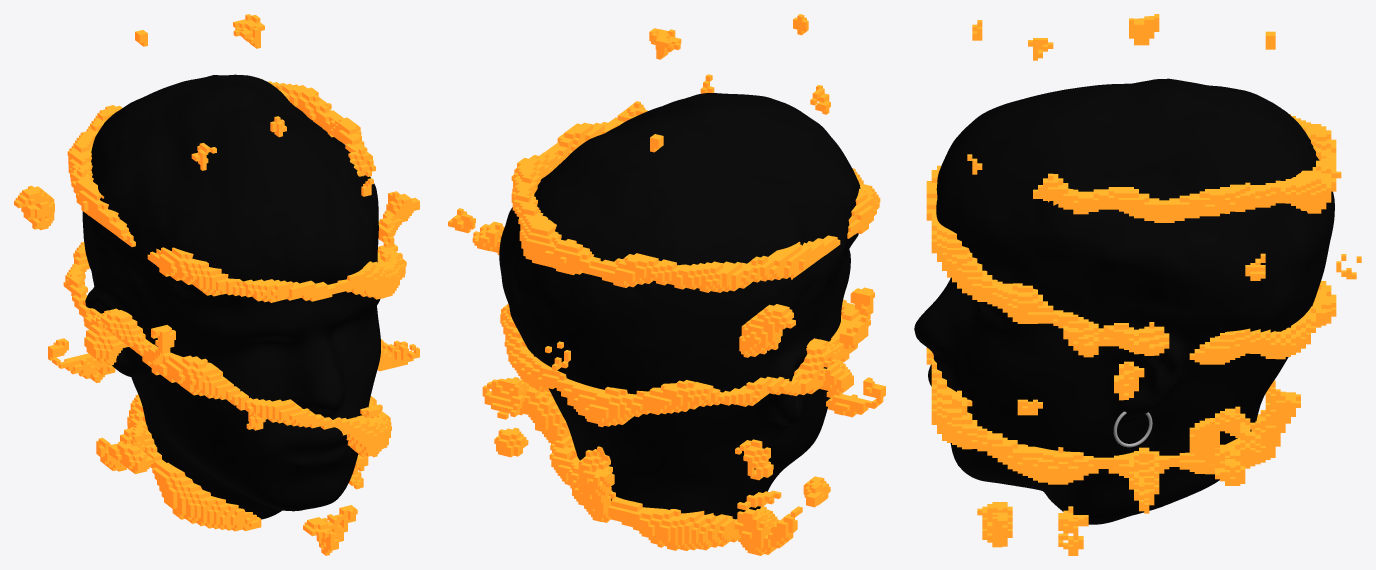
The model's file is MOISUBSTANCEORANGE.glb.
The picture shows the model from 3 angles, left to right: view 1: azimuth 30°, elevation 25°; view 2: azimuth 150°, elevation 25°; view 3: azimuth 270°, elevation 25°; orthographic projection. The views are drawn at different scales.
Visible parts, largest first — view 1: moi tout simplement.002, Cube; view 2: moi tout simplement.002, Cube; view 3: moi tout simplement.002, Cube.
Boxes of the visible parts, x1,y1,x2,y2 form: moi tout simplement.002: (82,74,380,519); Cube: (14,14,419,555); moi tout simplement.002: (499,93,860,519); Cube: (448,14,885,555); moi tout simplement.002: (914,78,1334,524); Cube: (926,14,1361,555).
Size of the model in its own units: 2.02 by 2.52 by 1.94.
